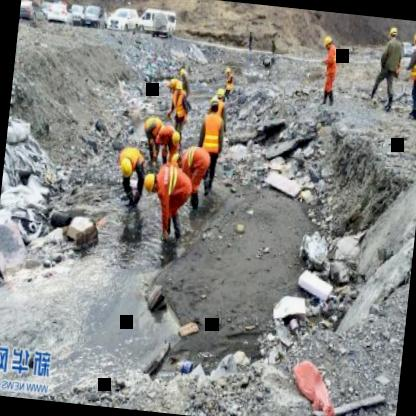helmet: (140, 168, 162, 195), (114, 155, 136, 182), (168, 150, 186, 174), (167, 127, 185, 150), (143, 115, 161, 137), (387, 23, 401, 45), (321, 31, 336, 50), (173, 76, 184, 98), (410, 25, 416, 48)
